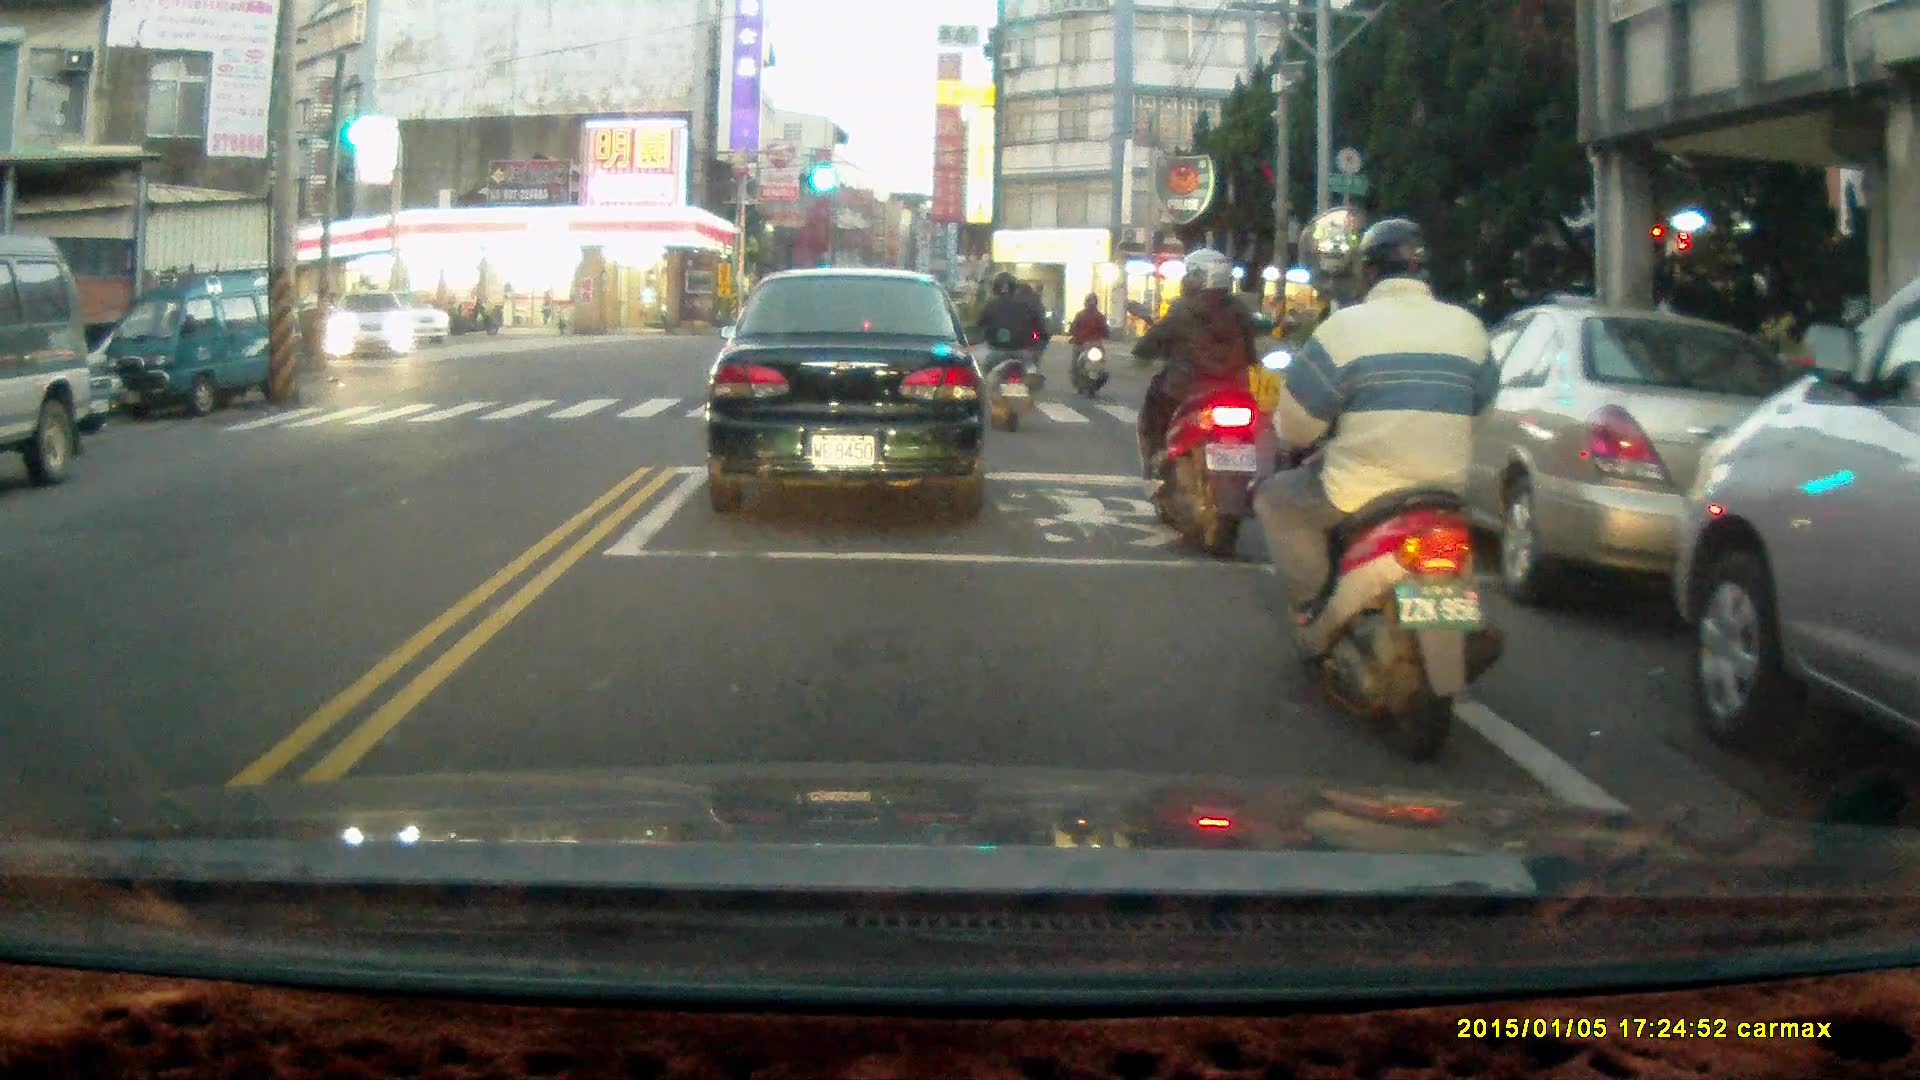rider: (1255, 217, 1509, 760), (1125, 246, 1277, 561), (972, 271, 1031, 432), (1070, 289, 1112, 400)
vehicle: (1410, 306, 1836, 611), (1671, 286, 1920, 750), (701, 265, 989, 521), (97, 263, 282, 417), (1, 234, 103, 486), (324, 291, 417, 363), (378, 293, 452, 343)
